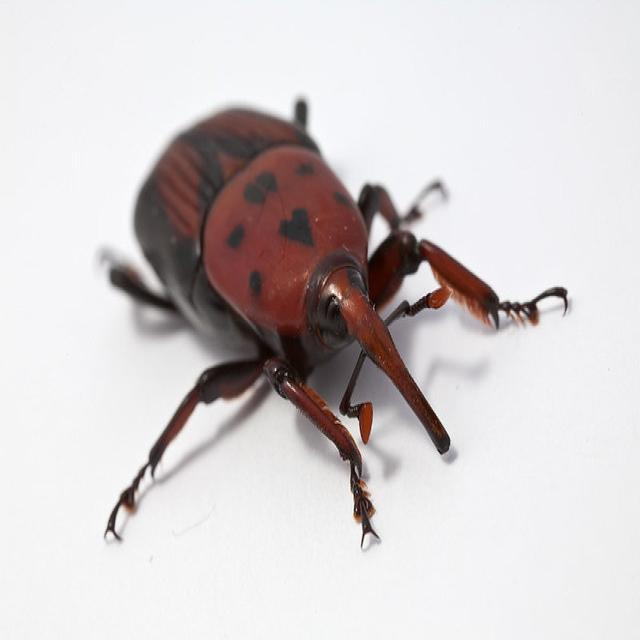Red-palm-weevil: (106, 97, 465, 454)
